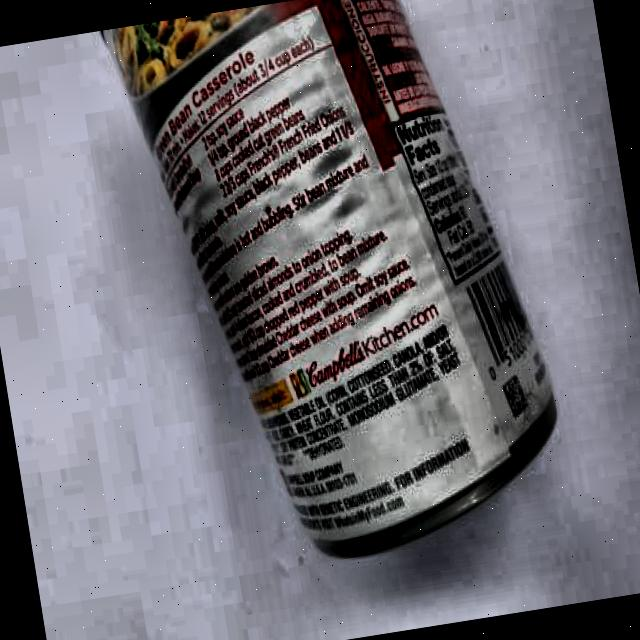metal: (94, 0, 576, 591)
